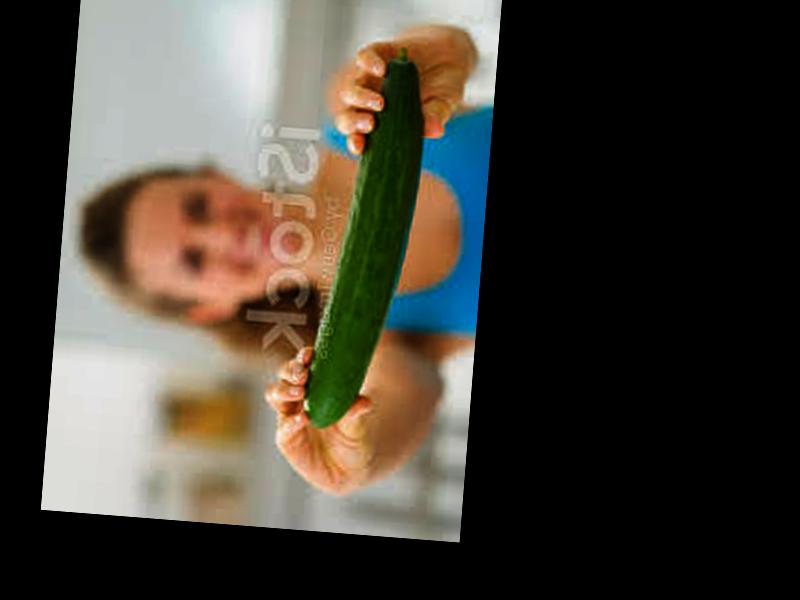Cucumber: (306, 44, 430, 435)
